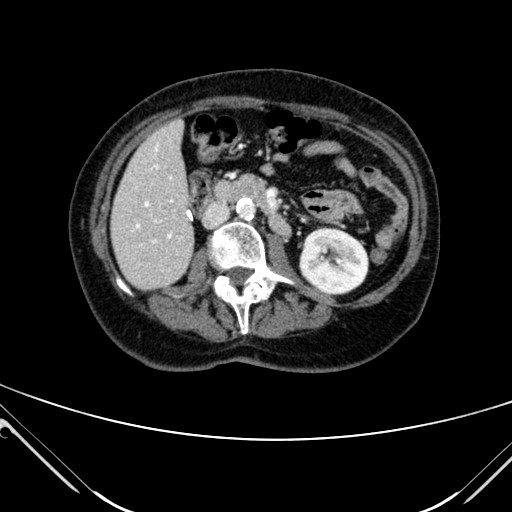clipe: (185, 208, 195, 223)
